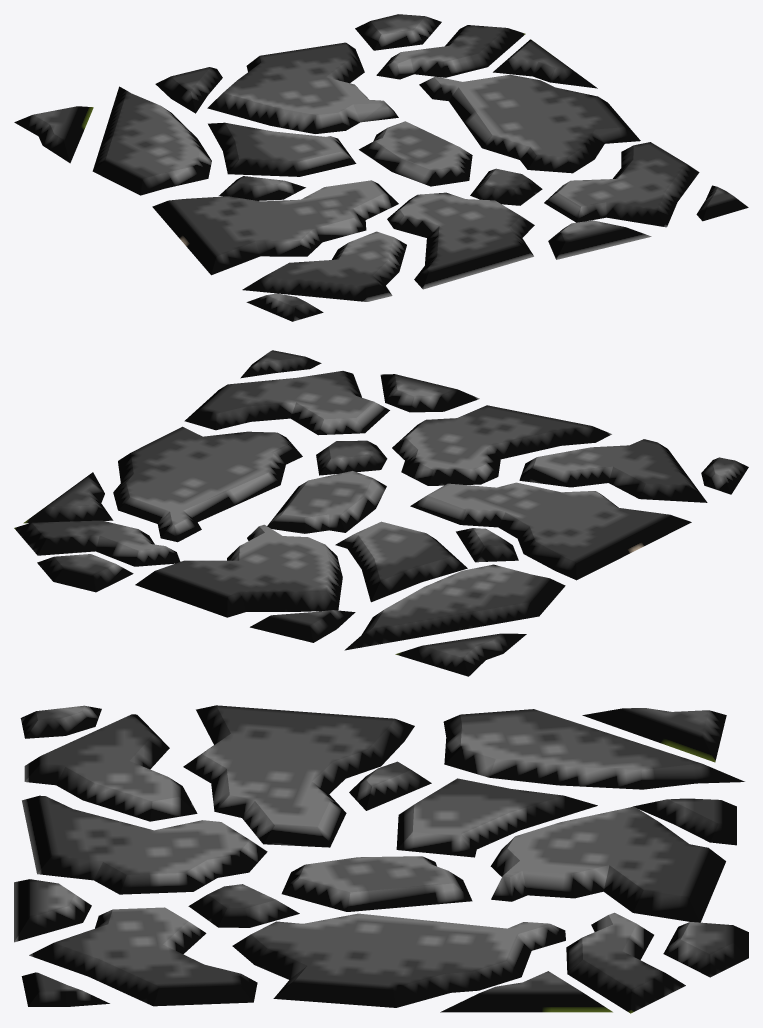
Rendered from deco_gravel_B.FBX.
The picture shows the model from 3 angles, top to bottom: view 1: azimuth 30°, elevation 25°; view 2: azimuth 150°, elevation 25°; view 3: azimuth 270°, elevation 25°; orthographic projection. The views are drawn at different scales.
Parts seen in each view (by area): view 1: deco_gravel_B; view 2: deco_gravel_B; view 3: deco_gravel_B.
Boxes of the visible parts, <box> form: deco_gravel_B: <box>14,14,748,321</box>; deco_gravel_B: <box>14,350,748,676</box>; deco_gravel_B: <box>14,705,748,1013</box>.
Size of the model in its own units: 1.94 by 0.0637 by 1.98.
Materials: 1 (1 with a texture image).
